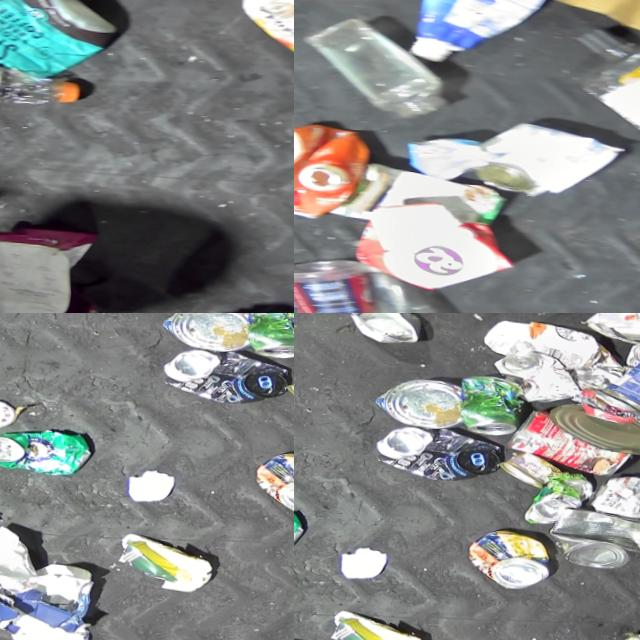can: (477, 113, 615, 199), (507, 401, 636, 473), (162, 342, 290, 403), (375, 419, 503, 480), (549, 498, 640, 565), (468, 523, 553, 586), (492, 345, 583, 401), (550, 395, 640, 450), (374, 372, 463, 426), (0, 425, 93, 475), (459, 371, 526, 433), (524, 465, 596, 521), (600, 340, 640, 420), (161, 313, 249, 349), (590, 466, 640, 524), (500, 445, 563, 485), (255, 446, 294, 508), (343, 313, 420, 341), (245, 313, 294, 356), (584, 313, 640, 340), (0, 395, 17, 427), (625, 335, 640, 362)
non_white_jug: (403, 0, 556, 65), (294, 115, 386, 223)
plastic_bottle: (0, 61, 84, 106)
